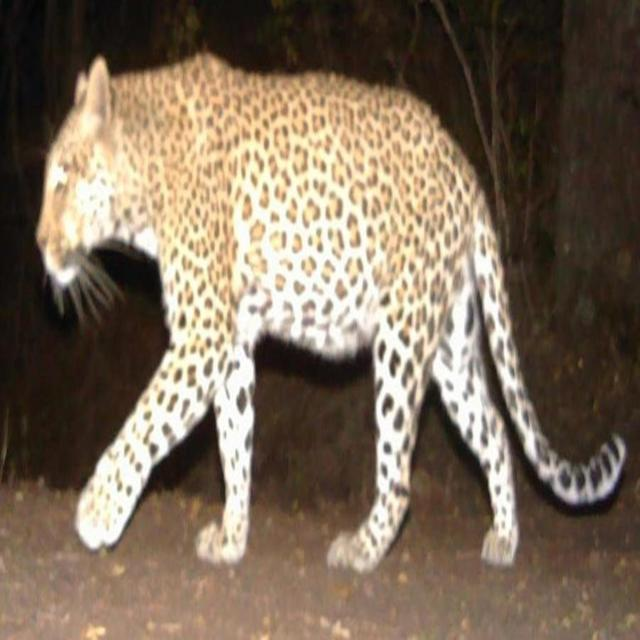Leopard: (38, 40, 620, 625)
